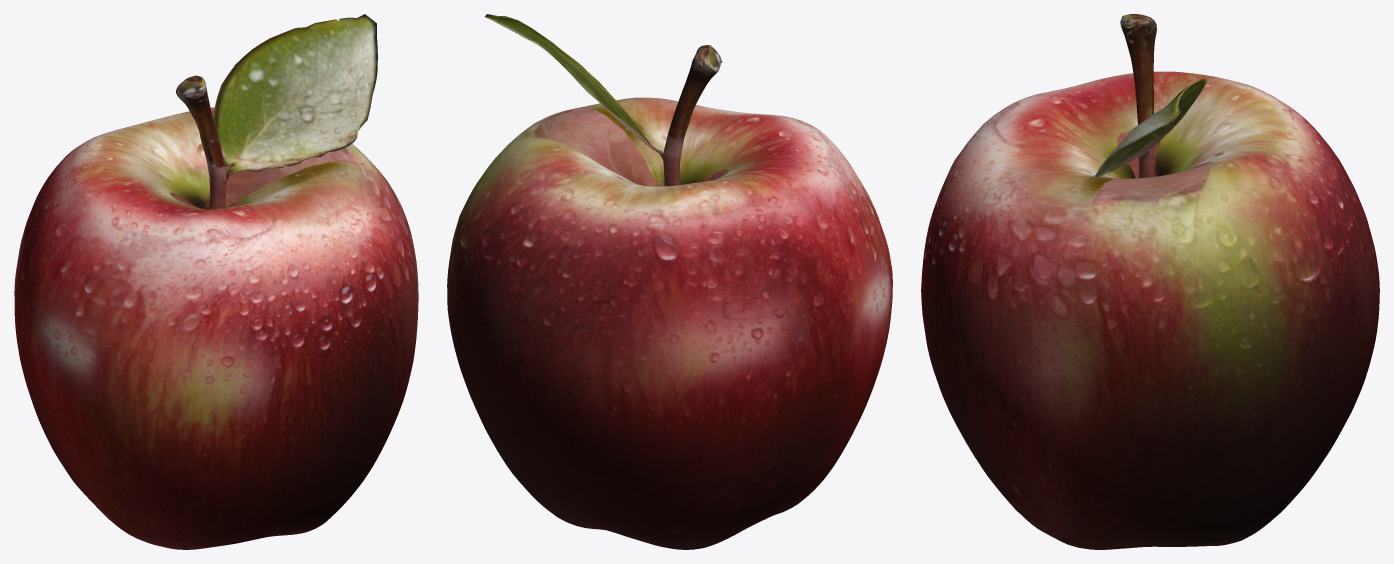
File: apple.glb
3 views of the same model, side by side, from view 1: azimuth 30°, elevation 25°; view 2: azimuth 150°, elevation 25°; view 3: azimuth 270°, elevation 25° (orthographic). The views are drawn at different scales.
Size of the model in its own units: 1.67 by 2 by 1.68.
1 material, 1 textured.
